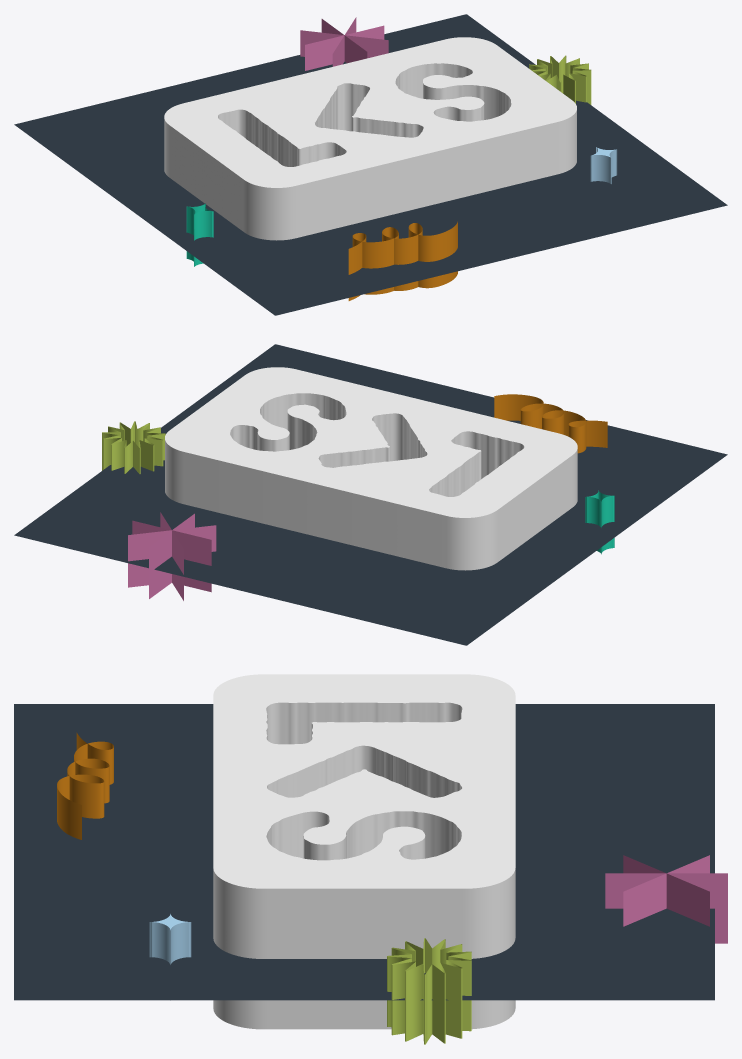
Rendered from lcs.glb.
The picture shows the model from 3 angles, top to bottom: view 1: azimuth 30°, elevation 25°; view 2: azimuth 150°, elevation 25°; view 3: azimuth 270°, elevation 25°; orthographic projection. The views are drawn at different scales.
Parts seen in each view (by area): view 1: Curve.002, Curve, Curve.007, Curve.012, Curve.006, Curve.005, Curve.013, Curve.011, Curve.003; view 2: Curve.002, Curve, Curve.007, Curve.012, Curve.004, Curve.006, Curve.003, Curve.013, Curve.005; view 3: Curve, Curve.002, Curve.012, Curve.007, Curve.003, Curve.004, Curve.005, Curve.011.
Boxes of the visible parts, left/top/right/bottom form: Curve.002: left=164, top=37, right=576, bottom=240; Curve: left=14, top=14, right=727, bottom=315; Curve.007: left=348, top=221, right=457, bottom=300; Curve.012: left=529, top=55, right=591, bottom=104; Curve.006: left=305, top=25, right=384, bottom=70; Curve.005: left=300, top=30, right=388, bottom=58; Curve.013: left=186, top=203, right=213, bottom=266; Curve.011: left=590, top=147, right=617, bottom=183; Curve.003: left=321, top=19, right=367, bottom=63; Curve.002: left=165, top=367, right=577, bottom=570; Curve: left=14, top=344, right=727, bottom=645; Curve.007: left=494, top=394, right=607, bottom=453; Curve.012: left=102, top=421, right=165, bottom=473; Curve.004: left=128, top=525, right=216, bottom=587; Curve.006: left=132, top=520, right=211, bottom=592; Curve.003: left=149, top=513, right=194, bottom=598; Curve.013: left=585, top=490, right=614, bottom=554; Curve.005: left=160, top=512, right=183, bottom=600; Curve: left=14, top=704, right=714, bottom=1000; Curve.002: left=213, top=674, right=515, bottom=1029; Curve.012: left=387, top=938, right=471, bottom=1044; Curve.007: left=57, top=732, right=113, bottom=839; Curve.003: left=605, top=873, right=727, bottom=943; Curve.004: left=623, top=855, right=709, bottom=926; Curve.005: left=623, top=855, right=709, bottom=926; Curve.011: left=149, top=914, right=191, bottom=964.
Size of the model in its own units: 0.9313 by 0.2 by 0.9199.
